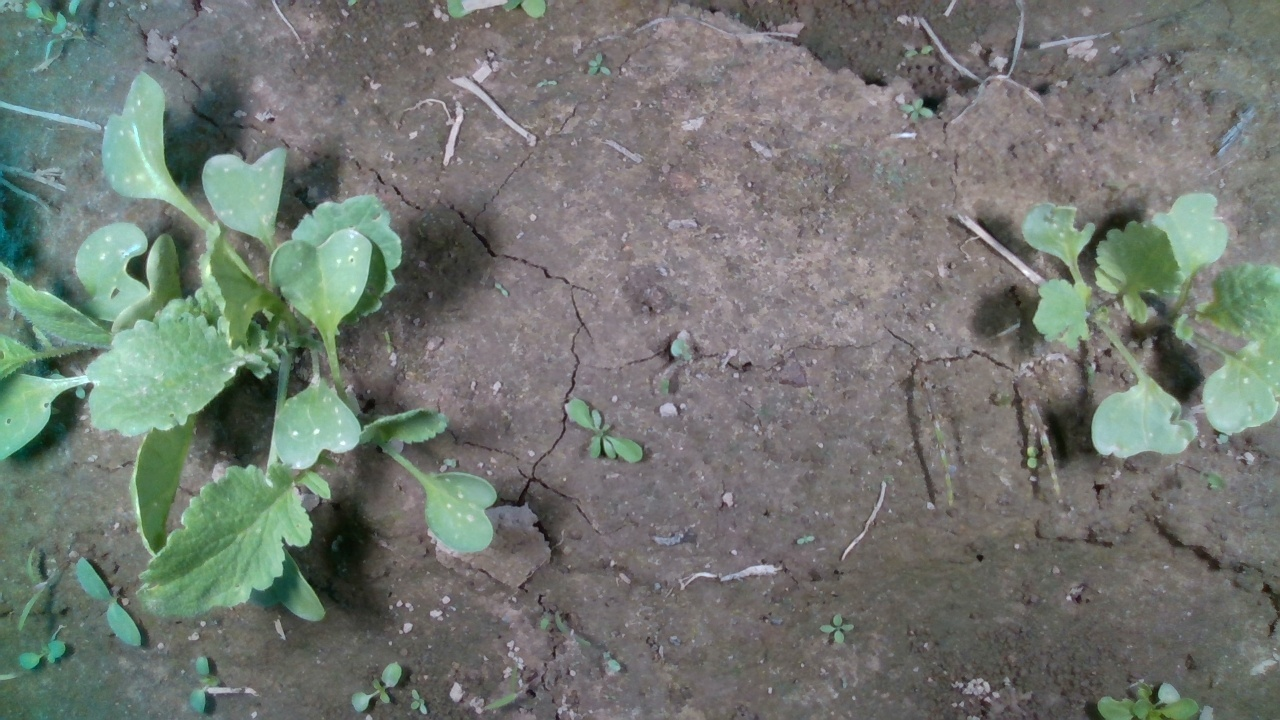weed: (564, 396, 644, 462), (349, 662, 403, 714), (188, 654, 214, 715), (16, 639, 66, 670), (895, 95, 938, 124), (819, 611, 855, 643), (585, 51, 613, 75), (410, 688, 429, 716), (1025, 444, 1041, 469), (795, 534, 816, 547)
